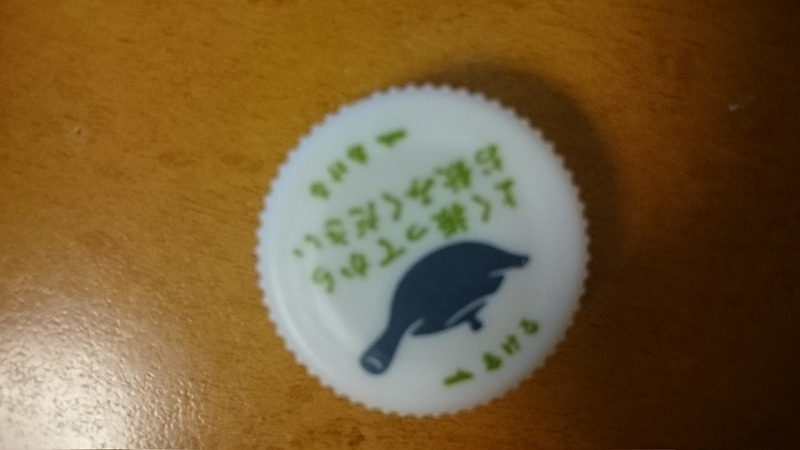A: (244, 75, 604, 424)
